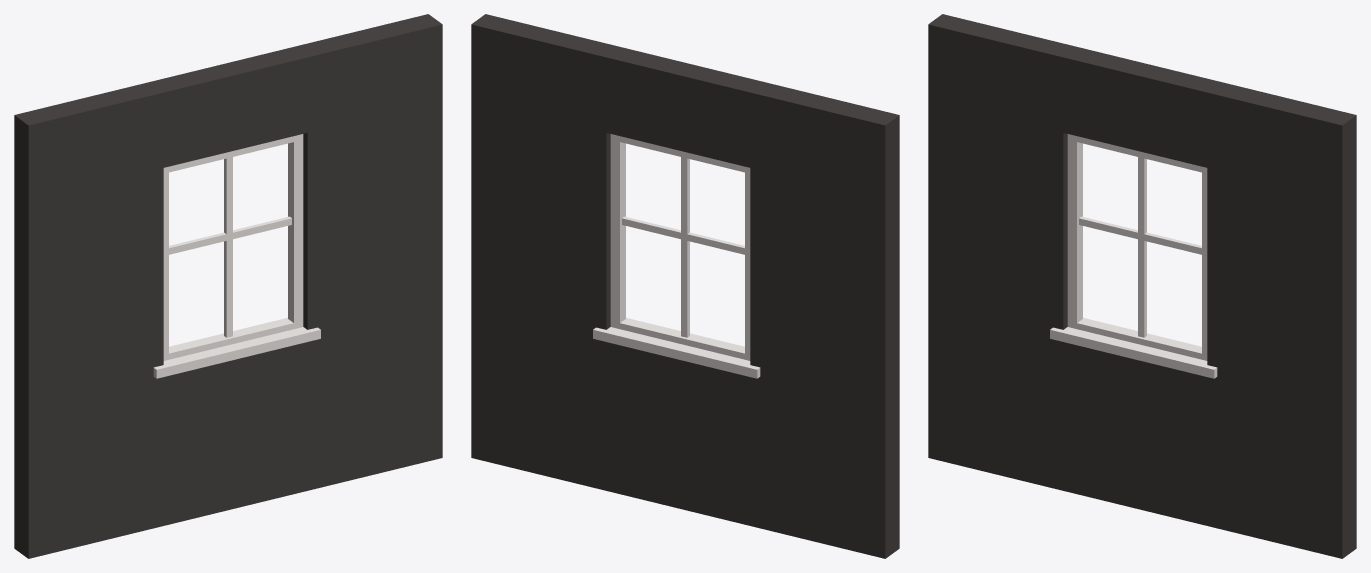
File: Wall_18.fbx
3 renders of one model, left to right at view 1: azimuth 30°, elevation 25°; view 2: azimuth 150°, elevation 25°; view 3: azimuth 330°, elevation 25°, orthographic.
Visible parts, largest first — view 1: Wall_18; view 2: Wall_18; view 3: Wall_18.
Part boxes in pixels (x1=…): Wall_18: x1=14, y1=14, x2=442, y2=558; Wall_18: x1=471, y1=14, x2=899, y2=558; Wall_18: x1=928, y1=14, x2=1356, y2=558.
Size of the model in its own units: 259 by 259 by 22.34.
